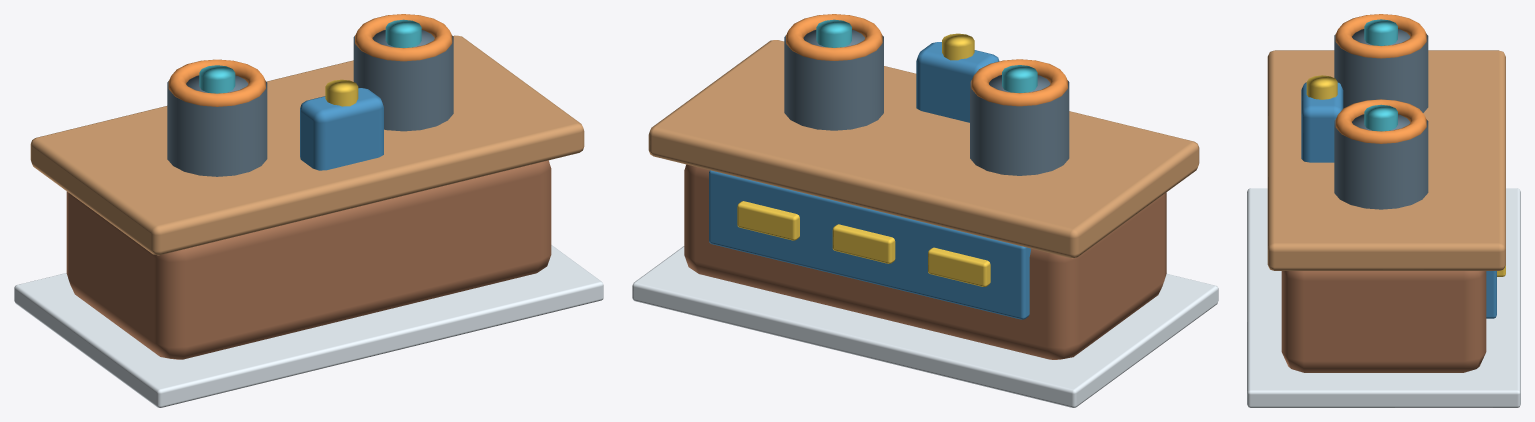
The model's file is processing_counter.glb.
The picture shows the model from 3 angles, left to right: view 1: azimuth 30°, elevation 25°; view 2: azimuth 150°, elevation 25°; view 3: azimuth 270°, elevation 25°; orthographic projection. The views are drawn at different scales.
Visible parts, largest first — view 1: processing_counter; view 2: processing_counter; view 3: processing_counter.
Boxes of the visible parts, x1,y1,x2,y2 form: processing_counter: [14, 14, 603, 407]; processing_counter: [632, 14, 1218, 407]; processing_counter: [1247, 14, 1520, 407].
Size of the model in its own units: 3.45 by 1.87 by 1.95.
